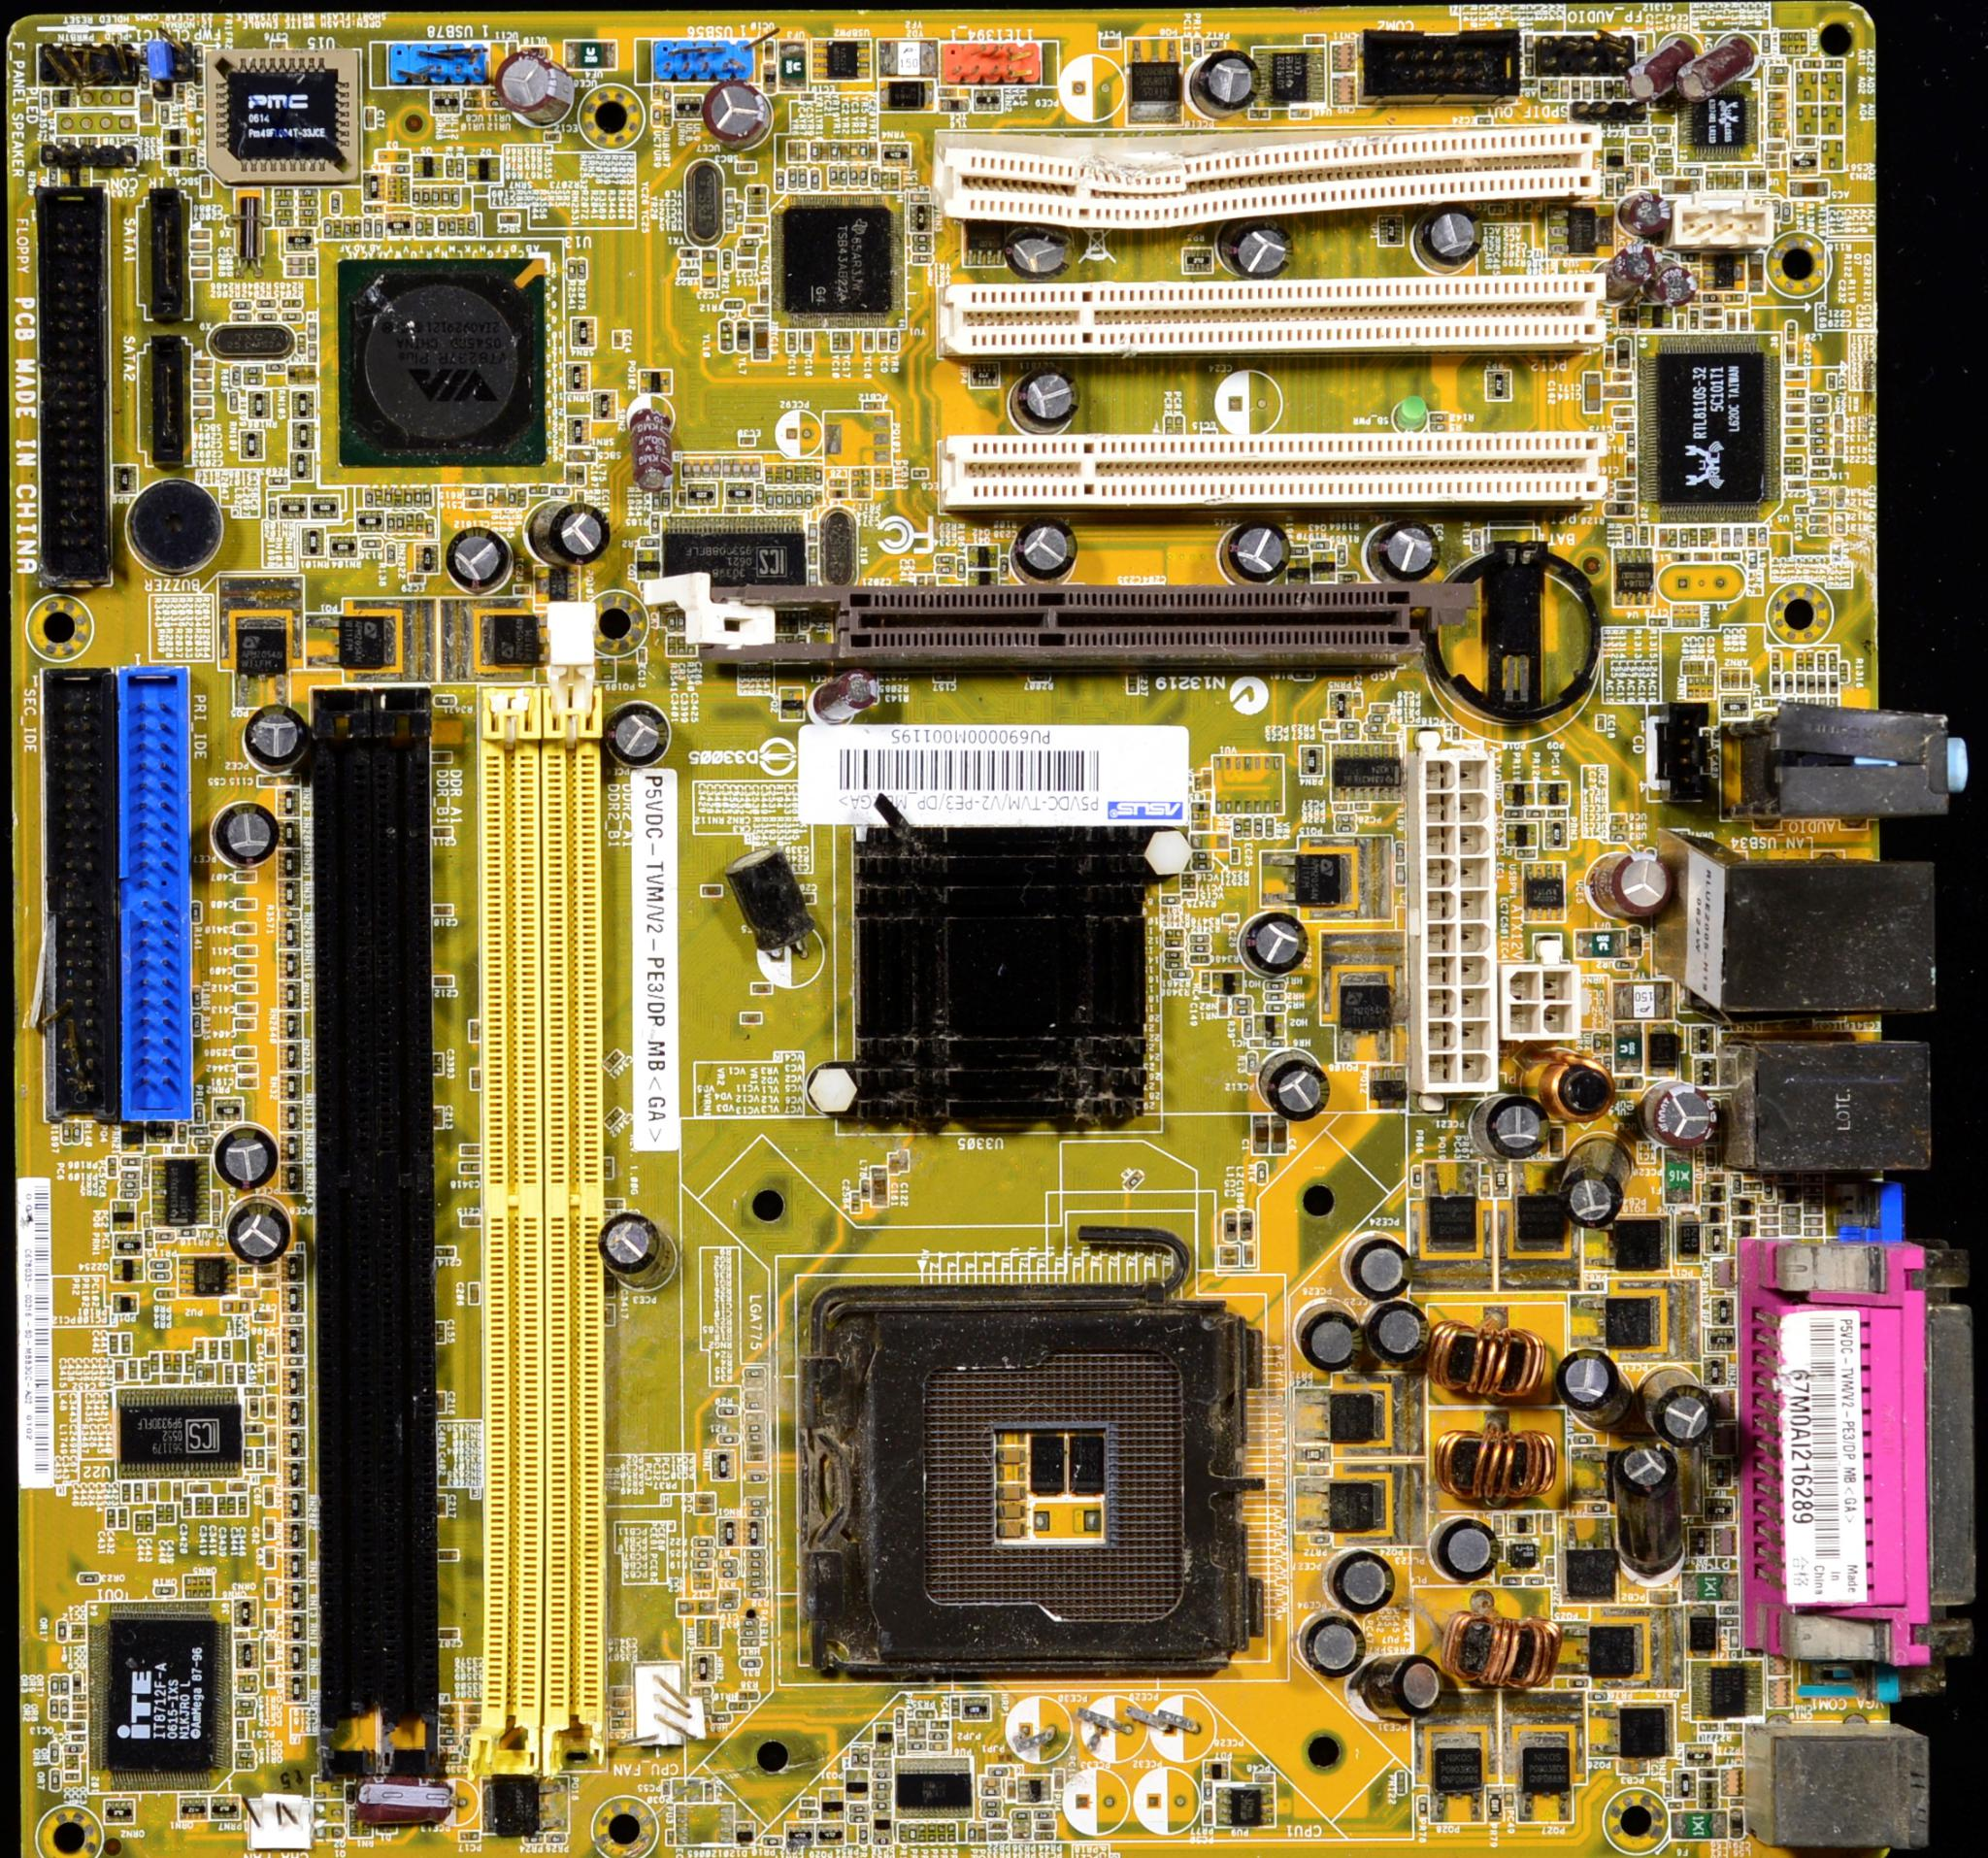Capacitor Jumper: (726, 847, 813, 959), (1618, 1434, 1684, 1573), (1592, 847, 1681, 922), (1548, 1339, 1623, 1423), (1559, 1137, 1630, 1224), (621, 409, 688, 501), (223, 1191, 298, 1270), (597, 1208, 675, 1282), (1683, 44, 1765, 110), (1262, 1055, 1333, 1130), (447, 519, 517, 595), (354, 1776, 452, 1830), (497, 54, 572, 124), (1477, 1090, 1552, 1158), (602, 702, 679, 768), (1019, 365, 1086, 440), (998, 218, 1077, 279), (1225, 222, 1295, 290), (539, 499, 606, 569), (1239, 908, 1307, 974), (215, 1119, 283, 1186), (1644, 1378, 1710, 1446), (1422, 204, 1489, 272), (1012, 519, 1082, 583), (246, 704, 311, 774), (1649, 1081, 1719, 1144), (1379, 512, 1440, 581), (1196, 49, 1260, 112), (1642, 33, 1691, 115), (702, 82, 768, 141), (213, 802, 276, 863), (1229, 512, 1283, 581), (1625, 190, 1674, 236), (1614, 244, 1655, 288), (1651, 262, 1691, 306), (1248, 1111, 1271, 1154), (869, 1163, 890, 1207), (1269, 1109, 1288, 1153), (1583, 370, 1601, 410), (232, 1013, 258, 1034), (602, 1102, 623, 1128), (262, 1448, 278, 1477), (250, 1308, 276, 1325), (105, 1329, 122, 1355), (234, 1001, 262, 1016), (237, 1282, 260, 1301), (604, 1046, 621, 1070), (264, 1393, 281, 1418), (230, 871, 260, 885), (262, 1331, 276, 1360), (232, 941, 258, 957), (429, 1049, 445, 1076), (232, 960, 260, 974), (230, 1044, 258, 1058), (435, 1493, 450, 1517), (133, 1507, 145, 1538), (189, 237, 213, 253), (468, 1067, 482, 1093), (1215, 1250, 1241, 1264), (257, 1273, 278, 1290), (223, 1360, 237, 1387), (192, 1491, 206, 1517), (435, 1547, 461, 1561), (182, 1490, 194, 1519), (154, 1500, 166, 1530), (105, 1505, 117, 1535), (234, 980, 257, 995), (236, 1058, 258, 1074), (180, 1352, 195, 1374), (262, 1483, 278, 1505), (264, 1666, 279, 1689), (232, 920, 257, 934), (161, 1348, 173, 1376), (262, 1607, 276, 1631), (264, 1636, 278, 1661), (1700, 316, 1724, 330), (206, 1339, 222, 1360), (435, 1318, 447, 1345), (264, 1360, 276, 1387), (216, 1491, 229, 1517), (117, 1505, 129, 1531), (431, 901, 454, 915), (236, 1074, 258, 1088), (264, 1545, 278, 1568), (260, 1577, 274, 1600), (438, 1624, 461, 1638), (190, 253, 213, 267), (1724, 309, 1738, 332), (564, 463, 578, 485), (1613, 477, 1635, 491), (232, 1360, 248, 1380), (262, 1425, 274, 1449), (227, 1491, 239, 1516), (1738, 307, 1751, 332), (1784, 402, 1808, 414), (1784, 414, 1808, 426), (433, 1243, 454, 1257), (164, 1498, 175, 1526), (1786, 367, 1806, 381), (1656, 526, 1670, 547), (433, 974, 456, 987), (468, 1018, 480, 1041), (887, 1151, 899, 1173), (602, 1154, 614, 1177), (1217, 1243, 1239, 1256), (140, 1357, 152, 1380), (113, 1359, 126, 1381), (1609, 368, 1632, 381), (436, 1699, 456, 1713), (1581, 77, 1594, 98), (433, 1104, 443, 1128), (459, 1142, 480, 1154), (1766, 110, 1787, 122), (461, 1212, 482, 1224), (192, 1338, 204, 1359), (148, 1350, 161, 1371), (262, 1516, 272, 1540), (189, 267, 209, 279), (1702, 306, 1726, 316), (1784, 342, 1796, 363), (1623, 454, 1635, 475), (1613, 489, 1637, 499), (1693, 548, 1714, 561), (145, 1509, 154, 1537), (1614, 417, 1632, 431), (470, 1280, 480, 1303), (175, 1350, 185, 1373), (129, 1357, 140, 1380), (695, 1502, 717, 1512), (1716, 166, 1726, 189), (1602, 344, 1613, 367), (431, 826, 454, 836), (1559, 79, 1571, 98), (1217, 995, 1229, 1015), (194, 1362, 206, 1381), (459, 1160, 480, 1170), (122, 1331, 133, 1352), (436, 1390, 447, 1411), (693, 1491, 714, 1502), (1724, 168, 1735, 189), (234, 899, 258, 908), (204, 1493, 213, 1517), (239, 1493, 248, 1517), (1005, 1778, 1014, 1802), (850, 1189, 860, 1208), (848, 140, 859, 159), (222, 1336, 230, 1359), (798, 138, 806, 161), (1766, 100, 1784, 110), (124, 1479, 131, 1505), (189, 229, 209, 237), (134, 1483, 143, 1502)
Connector: (1759, 1242, 1986, 1655), (1702, 859, 1941, 1009), (1761, 1036, 1964, 1187), (1756, 716, 1972, 838), (1773, 1727, 1962, 1855)
IC: (843, 819, 1161, 1140), (325, 244, 559, 485), (82, 1600, 232, 1790), (1642, 335, 1777, 520), (206, 45, 361, 182), (771, 185, 897, 321), (113, 1385, 246, 1484), (656, 510, 810, 592), (113, 1385, 241, 1476), (1681, 82, 1759, 161), (897, 1757, 974, 1816), (1328, 746, 1405, 802), (148, 1154, 209, 1224), (1257, 47, 1328, 107), (1611, 543, 1658, 608), (810, 37, 874, 82), (1541, 213, 1616, 251), (1220, 1785, 1272, 1827)
Resistor Jumper: (58, 1116, 75, 1149), (805, 168, 820, 194), (241, 361, 265, 377), (1122, 1172, 1143, 1189), (782, 166, 799, 187), (826, 164, 840, 190), (253, 295, 279, 309), (227, 297, 253, 311), (267, 358, 288, 375), (1780, 667, 1794, 693), (796, 164, 810, 189), (771, 166, 785, 190), (1768, 669, 1782, 693), (1815, 672, 1829, 697), (836, 164, 852, 185), (274, 196, 295, 211), (464, 217, 480, 237), (717, 1402, 740, 1416), (717, 1430, 740, 1444), (745, 1469, 768, 1483), (297, 196, 319, 210), (72, 1118, 82, 1147), (295, 206, 319, 218), (279, 309, 304, 321), (1794, 669, 1806, 693), (867, 168, 881, 189), (271, 185, 291, 199), (274, 215, 295, 229), (691, 1533, 714, 1545), (716, 1554, 738, 1566), (1501, 1572, 1524, 1584), (845, 164, 857, 187), (410, 185, 422, 208), (421, 185, 433, 208), (328, 192, 340, 215), (436, 215, 449, 237), (363, 217, 375, 239), (566, 257, 578, 279), (1428, 410, 1450, 423), (1676, 526, 1688, 548), (1670, 550, 1693, 562), (445, 152, 456, 178), (740, 1655, 766, 1666), (859, 1821, 869, 1848), (227, 313, 253, 323), (747, 1554, 766, 1568), (873, 1799, 892, 1813), (740, 234, 759, 248), (363, 536, 382, 550), (744, 1397, 764, 1409), (745, 1430, 766, 1442), (857, 140, 869, 161), (808, 141, 820, 162), (745, 1545, 766, 1558), (456, 154, 466, 178), (857, 164, 869, 185), (440, 187, 452, 208), (342, 213, 353, 237), (353, 215, 365, 236), (253, 309, 278, 320), (232, 363, 243, 388), (382, 485, 394, 506), (384, 543, 396, 564), (894, 1704, 904, 1727), (450, 185, 461, 208), (297, 217, 319, 227), (447, 213, 457, 236), (281, 297, 304, 307), (1428, 421, 1450, 431), (424, 515, 435, 538), (1625, 522, 1635, 545), (1805, 671, 1815, 693), (1829, 672, 1840, 695), (1766, 65, 1789, 75), (691, 1554, 710, 1566), (988, 1764, 1007, 1776), (1812, 435, 1831, 447), (412, 485, 424, 505), (1653, 126, 1674, 136), (871, 1788, 892, 1799), (981, 1795, 1002, 1806), (850, 1811, 871, 1821), (431, 185, 442, 206), (456, 215, 466, 236), (374, 217, 384, 237), (1759, 31, 1770, 52), (812, 463, 822, 484), (365, 485, 375, 506), (803, 487, 813, 508), (387, 512, 398, 533), (742, 1421, 766, 1430), (1683, 166, 1700, 178), (908, 1738, 925, 1750), (983, 1783, 1000, 1795), (244, 372, 262, 384), (756, 478, 764, 503), (777, 485, 785, 510), (794, 485, 803, 510), (747, 1505, 766, 1516), (693, 1545, 712, 1556), (717, 1566, 737, 1577), (983, 1806, 1002, 1816), (1614, 176, 1625, 196), (422, 487, 433, 506), (394, 512, 405, 531), (719, 1600, 742, 1608), (738, 1617, 761, 1626), (927, 1729, 949, 1738), (272, 210, 295, 218), (578, 257, 586, 279), (784, 461, 792, 484), (785, 487, 794, 510), (831, 138, 840, 159), (871, 1767, 892, 1776), (850, 1800, 867, 1811), (297, 189, 318, 197), (1810, 393, 1827, 403), (1812, 424, 1829, 435), (1812, 445, 1829, 456), (405, 487, 414, 508), (747, 1497, 766, 1505), (745, 1568, 764, 1577), (1012, 1809, 1032, 1818), (1033, 1809, 1052, 1818), (967, 1821, 976, 1841), (1808, 416, 1827, 424), (747, 1577, 764, 1586), (871, 1778, 888, 1786), (1524, 1575, 1545, 1582), (738, 1627, 759, 1634), (737, 1690, 757, 1697), (768, 489, 775, 510), (747, 1589, 766, 1596), (745, 1367, 763, 1374), (909, 1823, 916, 1841)
Transistor: (1300, 1378, 1398, 1453), (286, 609, 400, 674), (1255, 831, 1358, 899), (461, 606, 559, 678), (1302, 1477, 1403, 1545), (482, 1765, 569, 1841), (1409, 1154, 1478, 1247), (1512, 1724, 1573, 1823), (1581, 1292, 1683, 1346), (1581, 1697, 1679, 1753), (1429, 1727, 1485, 1825), (1335, 976, 1402, 1058), (234, 609, 291, 704), (1515, 1156, 1567, 1240), (1553, 1544, 1620, 1594), (1601, 1219, 1667, 1266), (1574, 1624, 1639, 1671)
